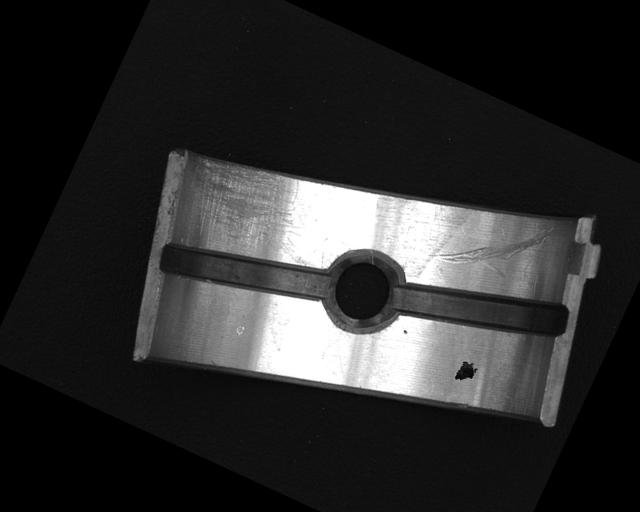blot: (453, 357, 480, 387)
bruise: (233, 321, 248, 337), (402, 329, 408, 335)
gap: (384, 239, 573, 380), (152, 205, 335, 338)
hole: (312, 237, 415, 344)
nick: (427, 182, 559, 304)
scratch: (167, 138, 342, 279)
